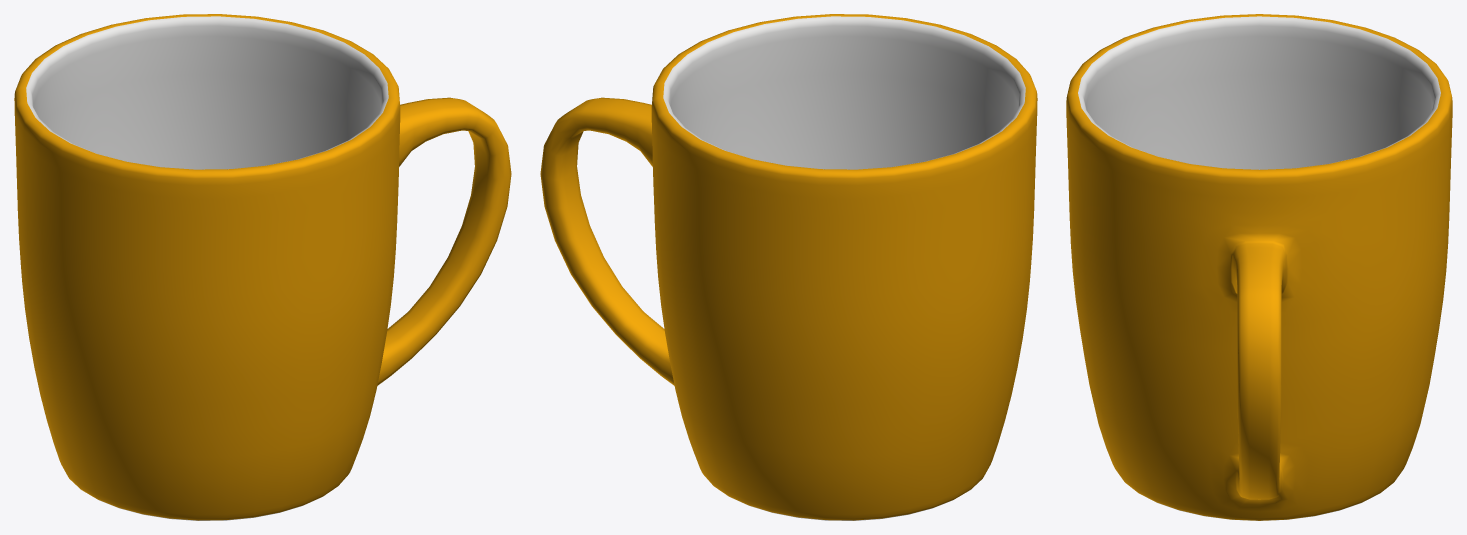
The model's file is Mug Corona.glb.
3 renders of one model, left to right at view 1: azimuth 30°, elevation 25°; view 2: azimuth 150°, elevation 25°; view 3: azimuth 270°, elevation 25°, orthographic.
Parts seen in each view (by area): view 1: mug; view 2: mug; view 3: mug.
Part boxes in pixels (<box>): mug: <box>14,14,511,520</box>; mug: <box>540,14,1037,520</box>; mug: <box>1066,14,1452,520</box>.
Bounding box in the file's own units: 0.4824 × 0.3652 × 0.3481.
